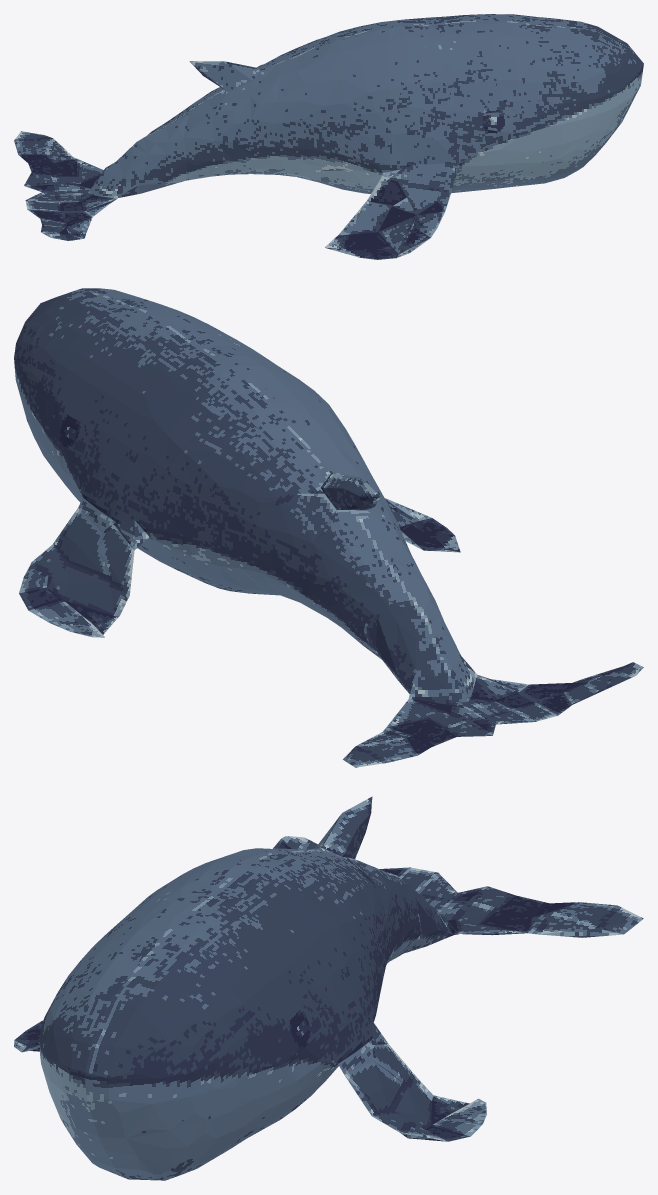
Rendered from whale.glb.
The picture shows the model from 3 angles, top to bottom: view 1: azimuth 30°, elevation 25°; view 2: azimuth 150°, elevation 25°; view 3: azimuth 270°, elevation 25°; orthographic projection. The views are drawn at different scales.
Parts seen in each view (by area): view 1: model_m; view 2: model_m; view 3: model_m.
Boxes of the visible parts, x1,y1,x2,y2 form: model_m: [14, 14, 643, 259]; model_m: [14, 288, 643, 767]; model_m: [14, 796, 643, 1180].
Bounding box in the file's own units: 39.51 × 11.5 × 27.99.
Materials: 1 (1 with a texture image).
